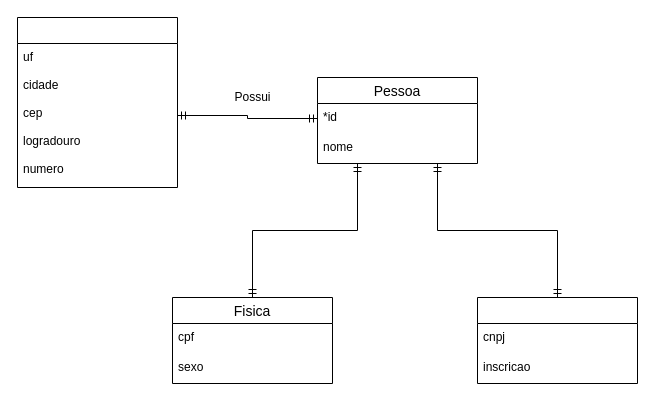
This 655x404 diagram has some shape labels left out. The box of each missing label's shape, as (x1, y1, x2, y2) in pixels:
Endereco: (16, 16, 178, 188)
Juridica: (476, 296, 638, 384)
